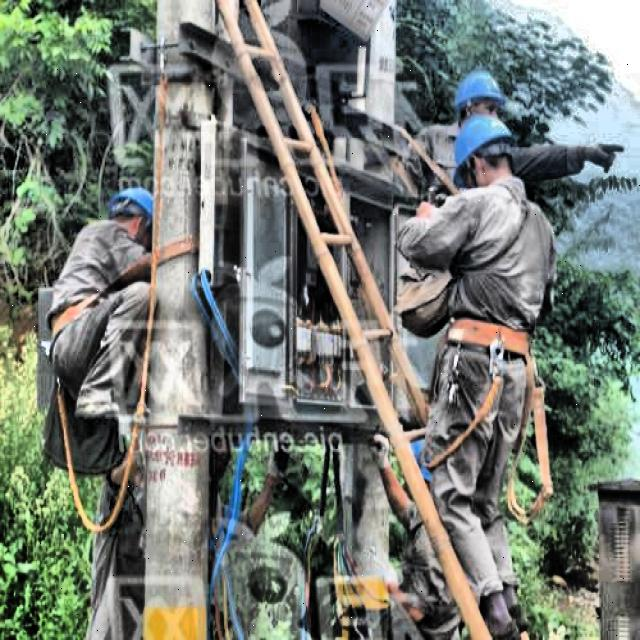helmet: (454, 108, 520, 192), (454, 70, 504, 129), (110, 182, 158, 241)
